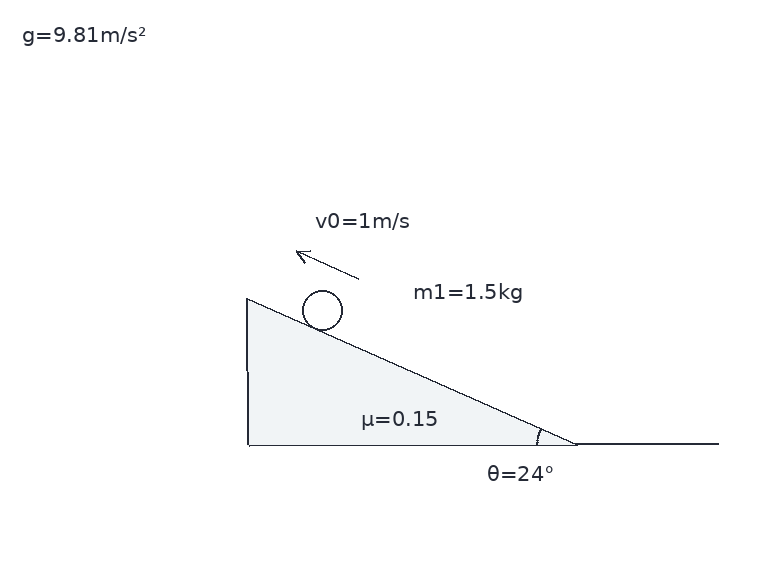ball: (300, 288, 344, 332)
ramp: (245, 296, 579, 447)
